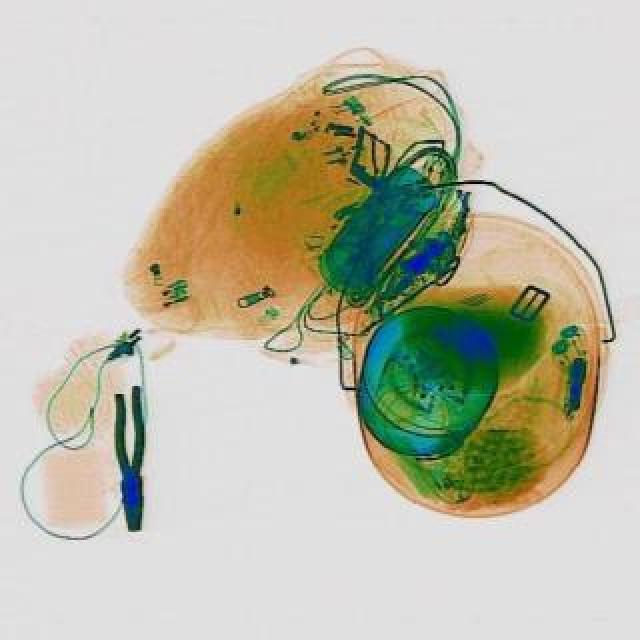wrench: (110, 384, 150, 532)
